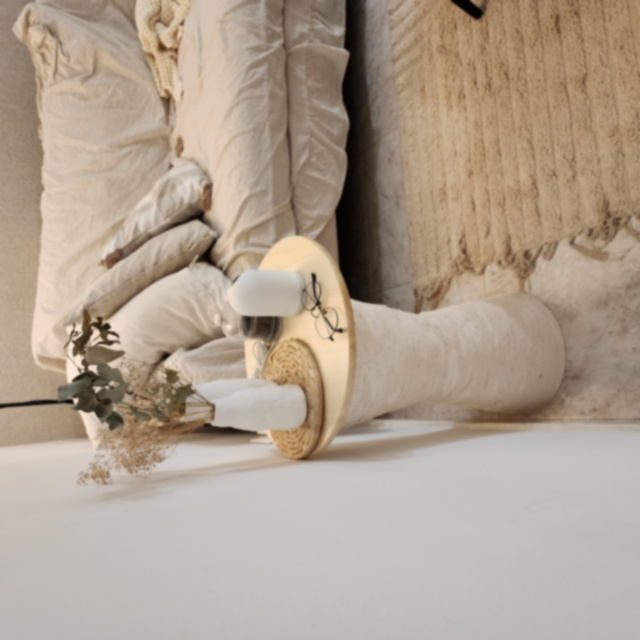glasses: (299, 271, 349, 343)
